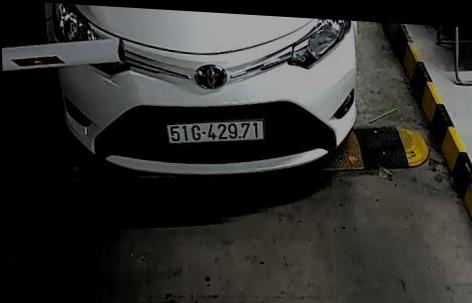License_Plate: (165, 110, 270, 149)
